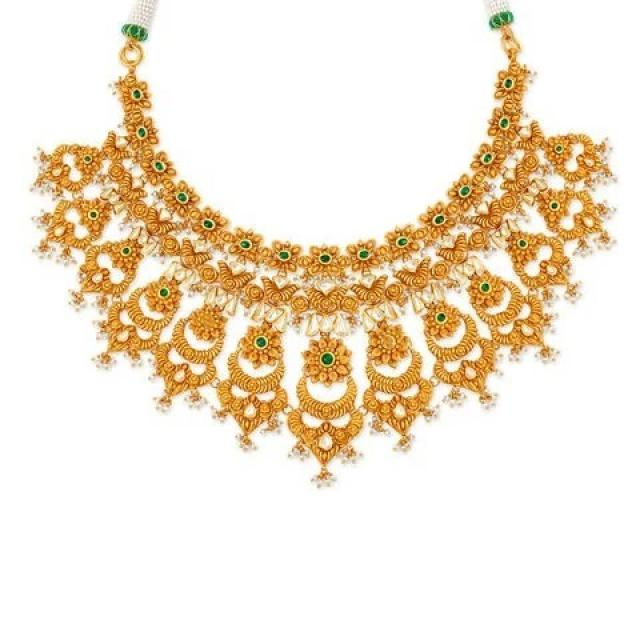missing gem: (384, 336, 394, 347), (203, 315, 212, 324)
